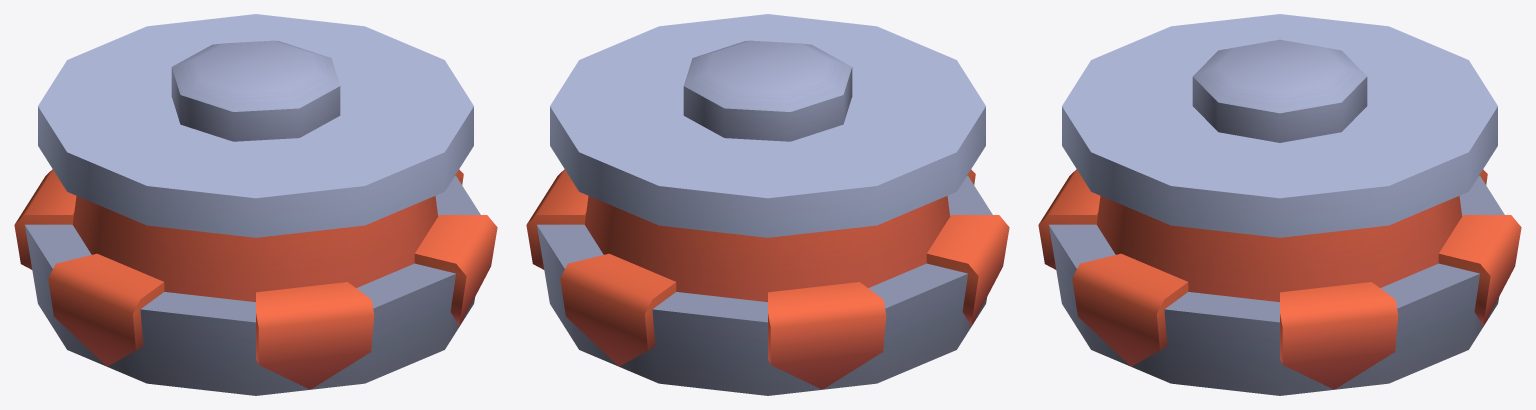
The model's file is kenney-tower-defense-tower-round-middle-a.glb.
3 views of the same model, side by side, from view 1: azimuth 30°, elevation 25°; view 2: azimuth 150°, elevation 25°; view 3: azimuth 270°, elevation 25° (orthographic).
Visible parts, largest first — view 1: tower-round-middle-a; view 2: tower-round-middle-a; view 3: tower-round-middle-a.
Part boxes in pixels (x1,y1,x2,y2): tower-round-middle-a: (14, 14, 497, 395); tower-round-middle-a: (526, 14, 1009, 395); tower-round-middle-a: (1038, 14, 1521, 395).
Bounding box in the file's own units: 1.11 × 0.6 × 1.11.
1 material, 1 textured.
